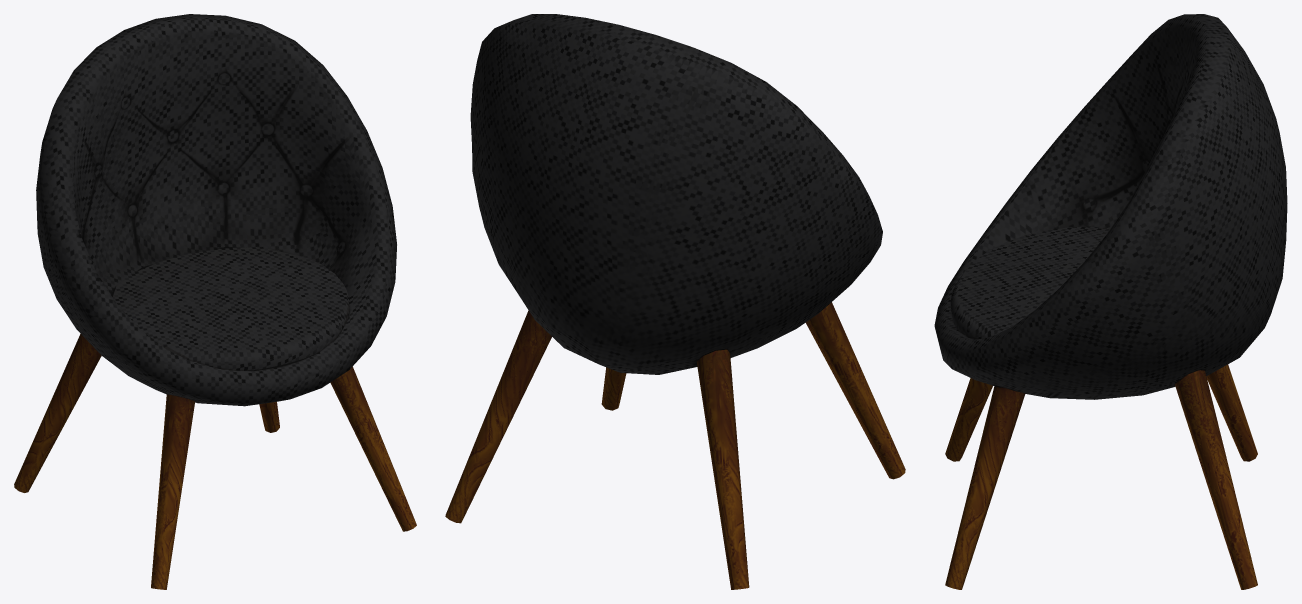
File: chair.fbx
3 renders of one model, left to right at view 1: azimuth 30°, elevation 25°; view 2: azimuth 150°, elevation 25°; view 3: azimuth 270°, elevation 25°, orthographic. The views are drawn at different scales.
Parts seen in each view (by area): view 1: chairlegs_low.001; view 2: chairlegs_low.001; view 3: chairlegs_low.001.
Part boxes in pixels (bbox=[...]): chairlegs_low.001: bbox=[14, 14, 416, 589]; chairlegs_low.001: bbox=[445, 14, 905, 589]; chairlegs_low.001: bbox=[934, 14, 1287, 589].
Bounding box in the file's own units: 86.3 × 113 × 74.63.
